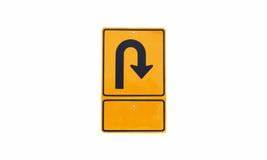back: (100, 27, 165, 95)
